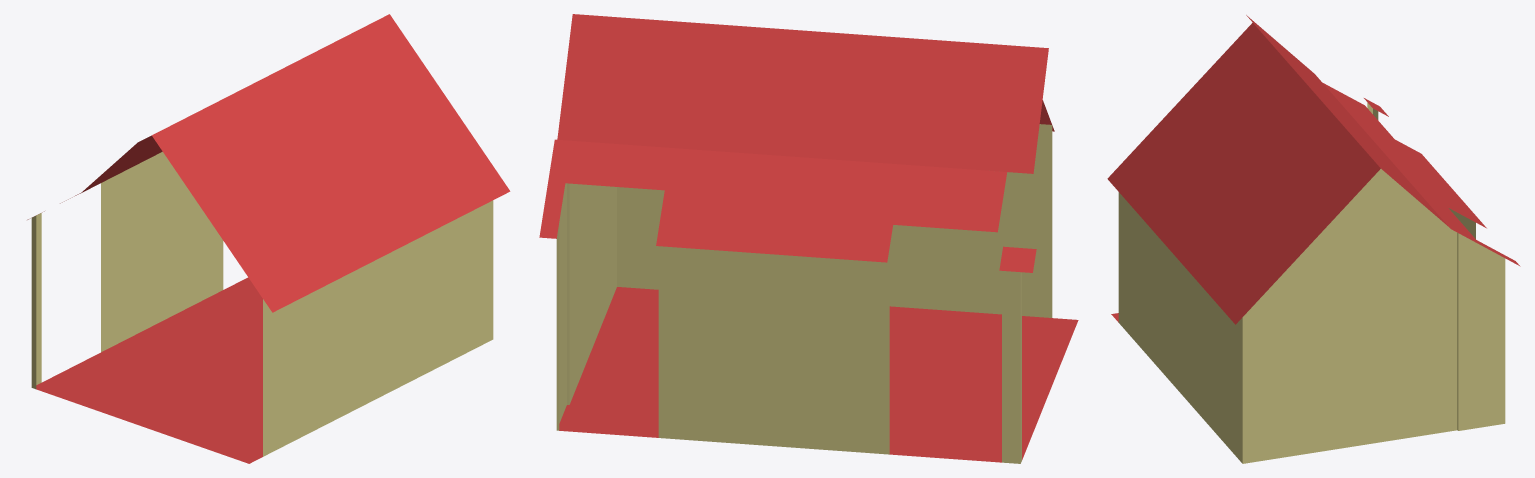
3 renders of one model, left to right at view 1: azimuth 30°, elevation 25°; view 2: azimuth 150°, elevation 25°; view 3: azimuth 270°, elevation 25°, orthographic. The views are drawn at different scales.
Bounding box in the file's own units: 20.03 × 17.15 × 12.78.
